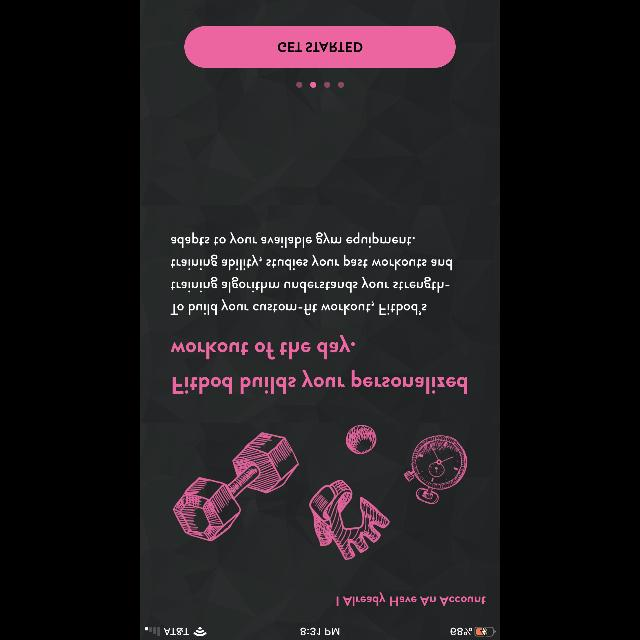image: (172, 425, 468, 561)
pageindicator: (296, 82, 344, 88)
text: (170, 232, 452, 314), (170, 335, 468, 395), (336, 592, 486, 608)
textbutton: (184, 26, 456, 68)
uppertaskbar: (140, 626, 500, 640)
